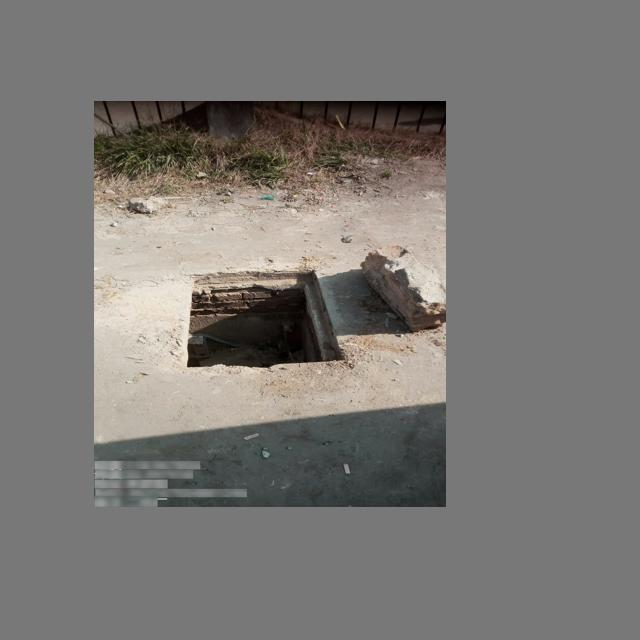lose: (151, 258, 363, 379)
